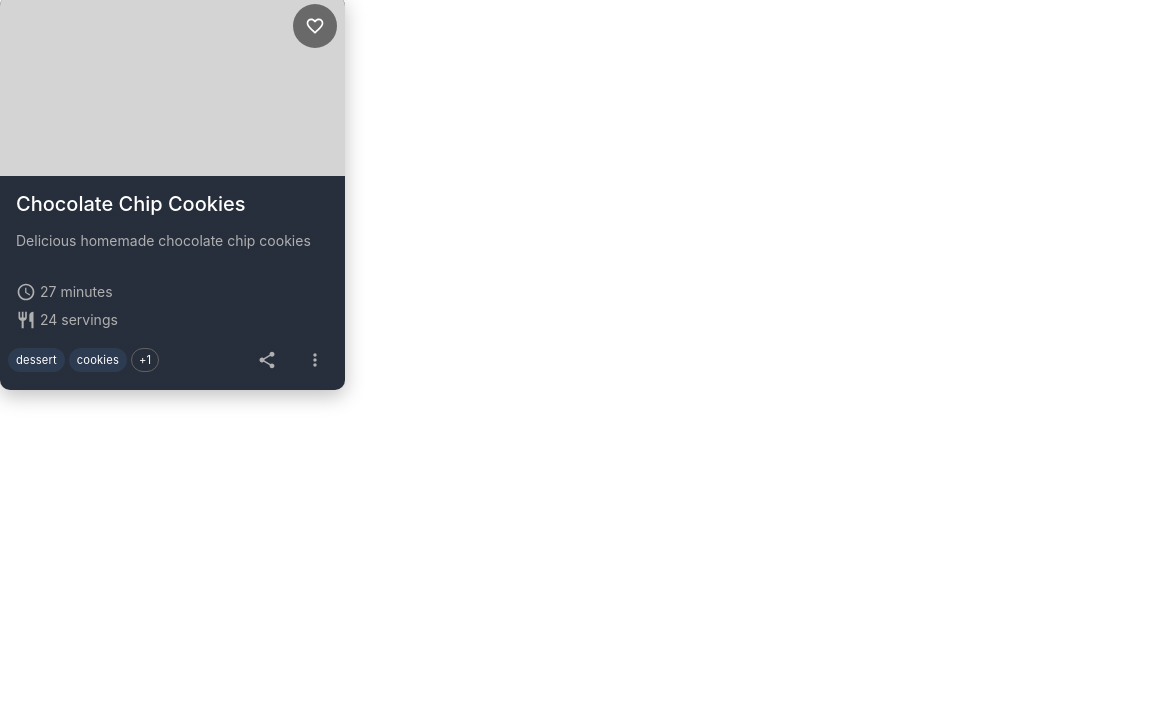
Test: RecipeCard Component › Delete Recipe › should cancel delete when cancel is clicked
The width and height of the screenshot is (1152, 720).
Note: Open delete dialog
Click the button named "more actions". click: (315, 360)
box: [293,338,337,382]
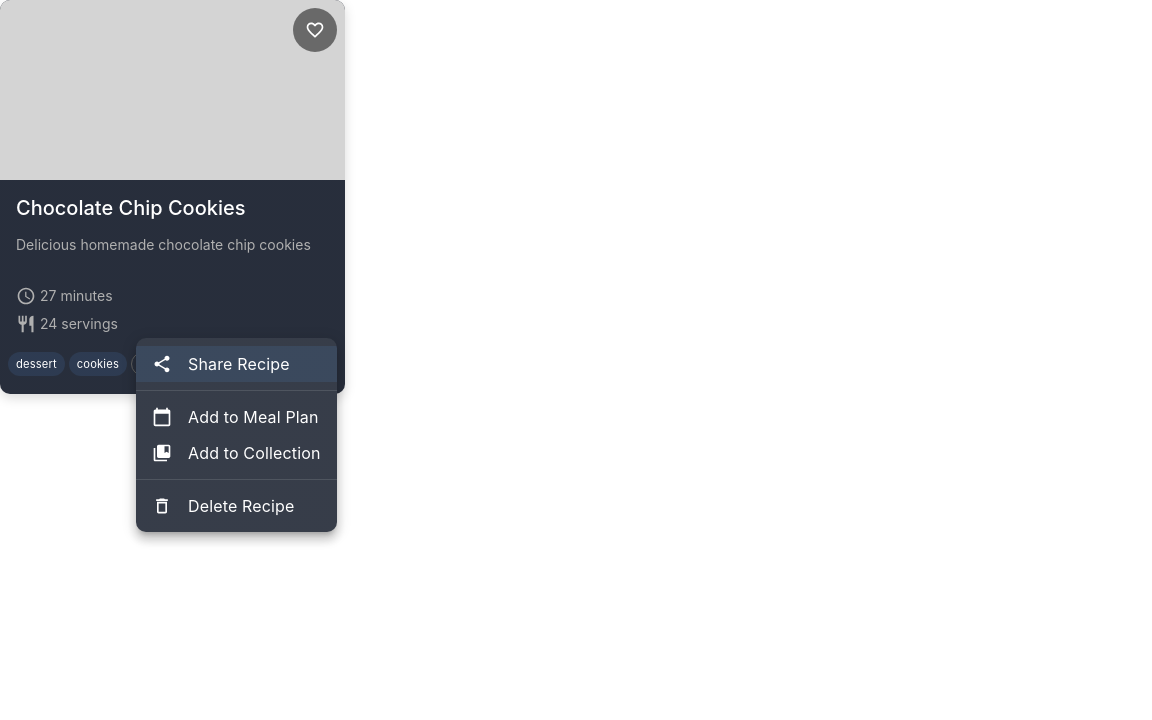
Click the menu item "Delete Recipe". click: (223, 506)
box: [152,496,294,516]
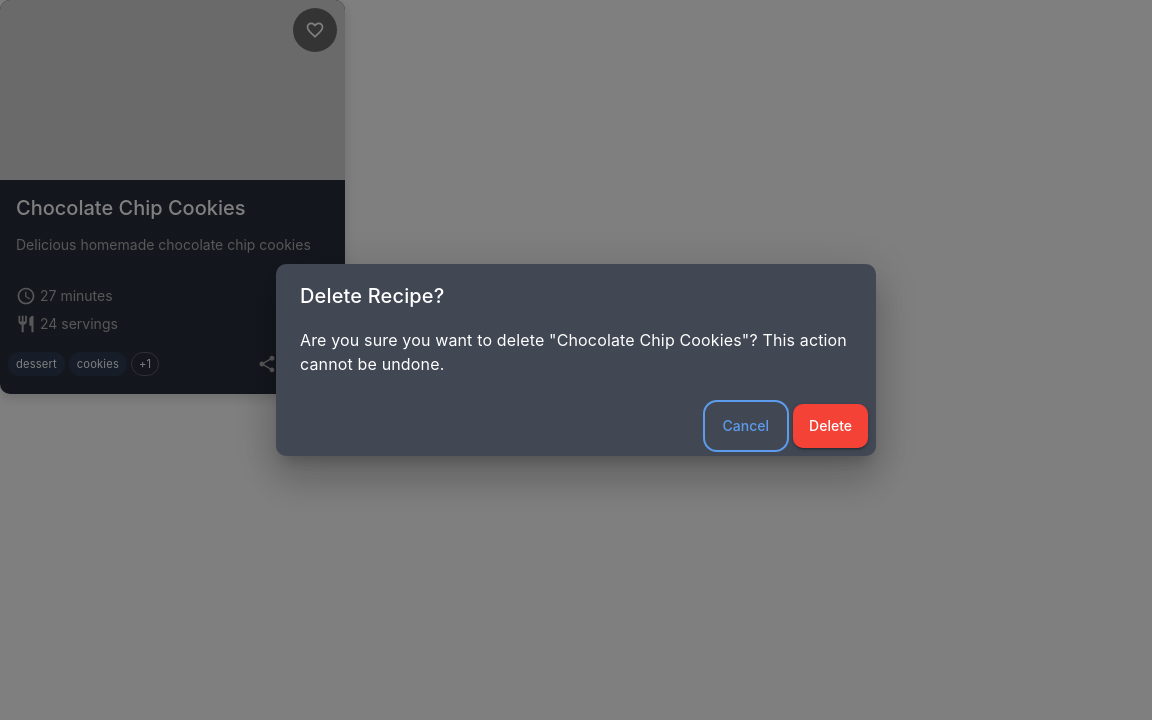
Note: Cancel delete
Click the button "Cancel". click: (746, 426)
box: [707,404,785,448]
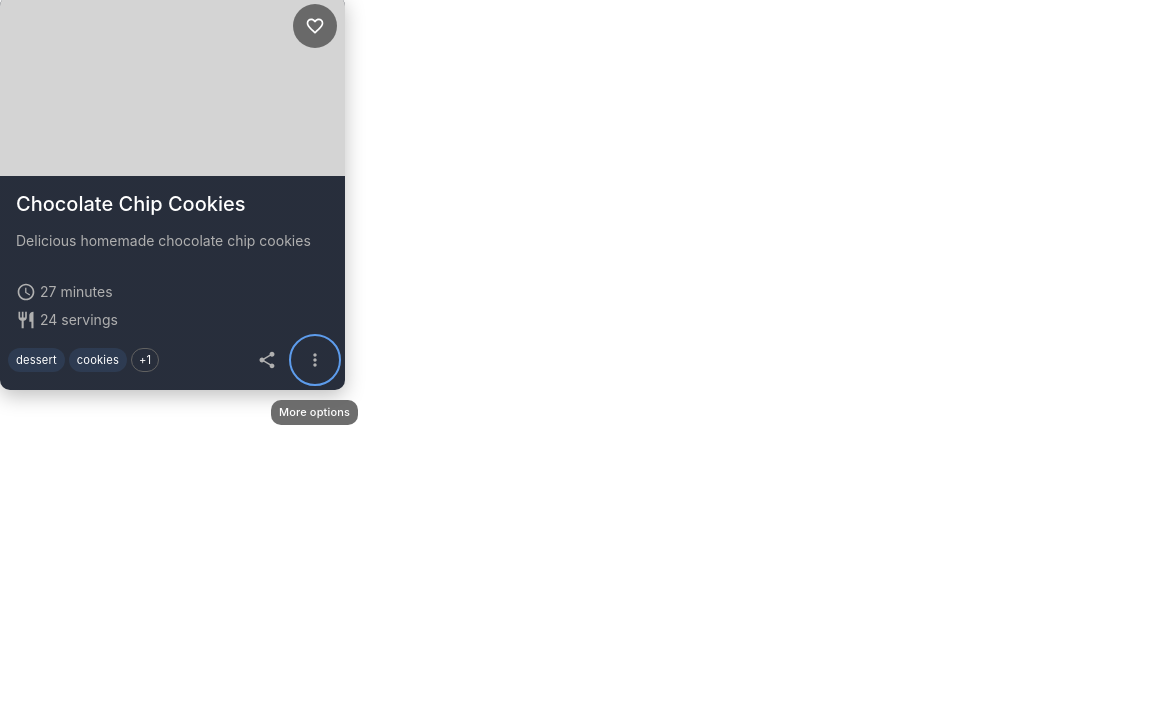
Expected: the heading "Delete Recipe?" is gone
